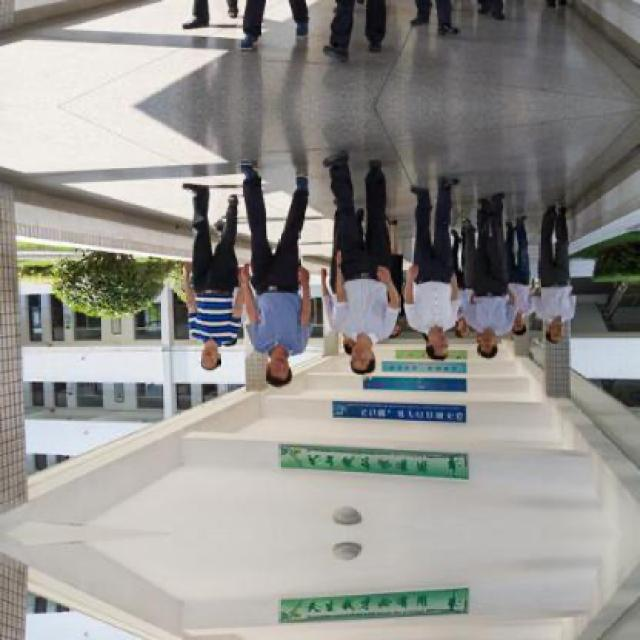sin casco: (453, 319, 509, 379), (174, 341, 223, 396), (318, 349, 381, 389), (405, 325, 454, 371), (258, 344, 289, 397), (532, 308, 566, 345)
